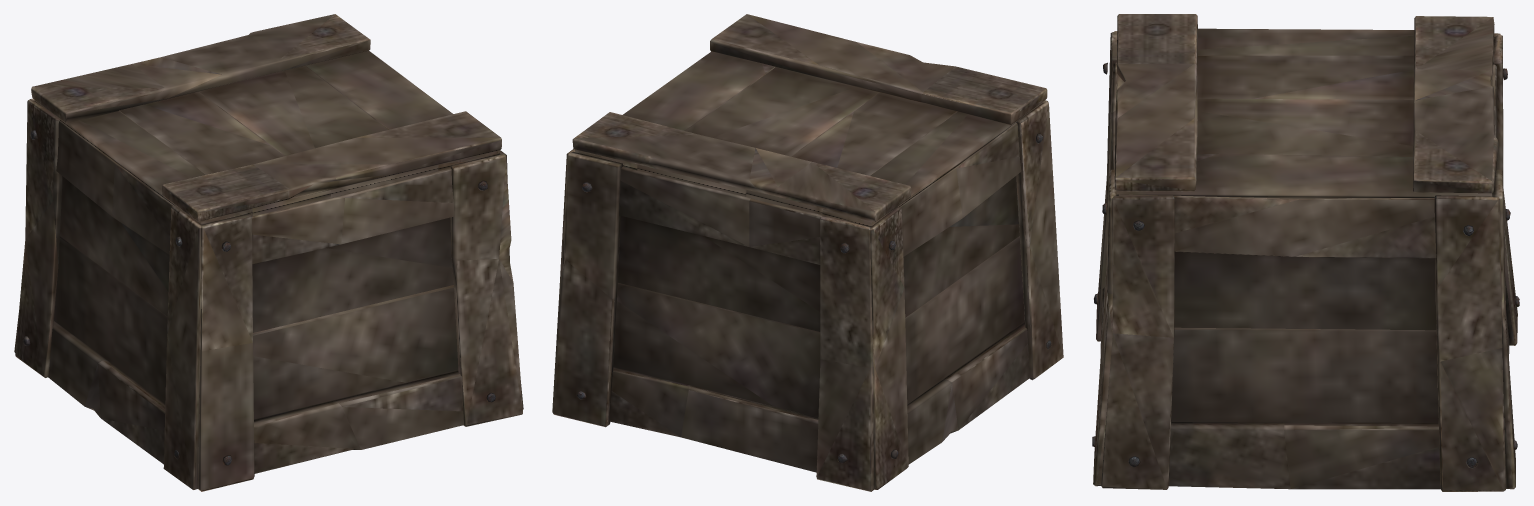
File: d_box_small.glb
3 renders of one model, left to right at view 1: azimuth 30°, elevation 25°; view 2: azimuth 150°, elevation 25°; view 3: azimuth 270°, elevation 25°, orthographic. The views are drawn at different scales.
Visible parts, largest first — view 1: d_box_small; view 2: d_box_small; view 3: d_box_small.
Boxes of the visible parts, bbox=[...] form: d_box_small: bbox=[14, 14, 523, 491]; d_box_small: bbox=[552, 14, 1063, 491]; d_box_small: bbox=[1092, 14, 1519, 491].
Bounding box in the file's own units: 1 × 0.7976 × 0.9995.
Materials: 1 (1 with a texture image).
